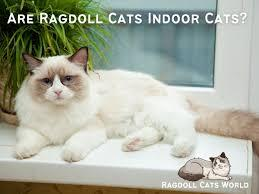ragdoll: (20, 43, 90, 111)
